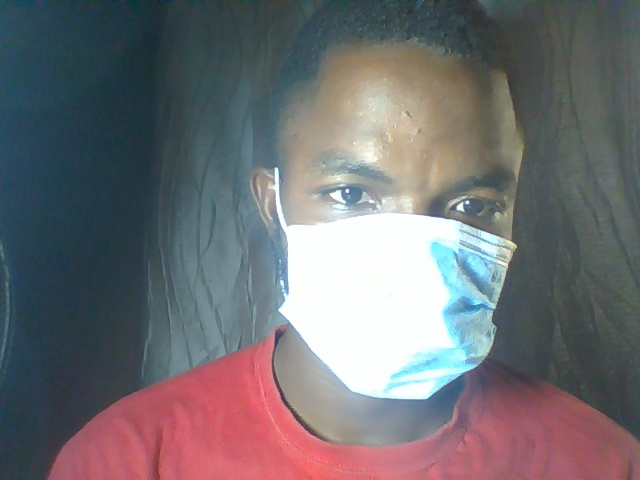MaskOn: (247, 2, 540, 407)
